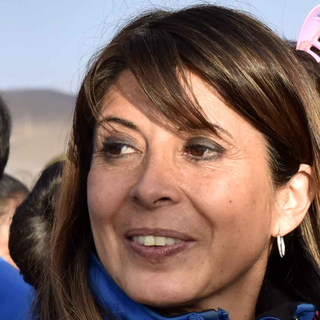eye: (182, 138, 229, 164), (99, 136, 143, 162)
